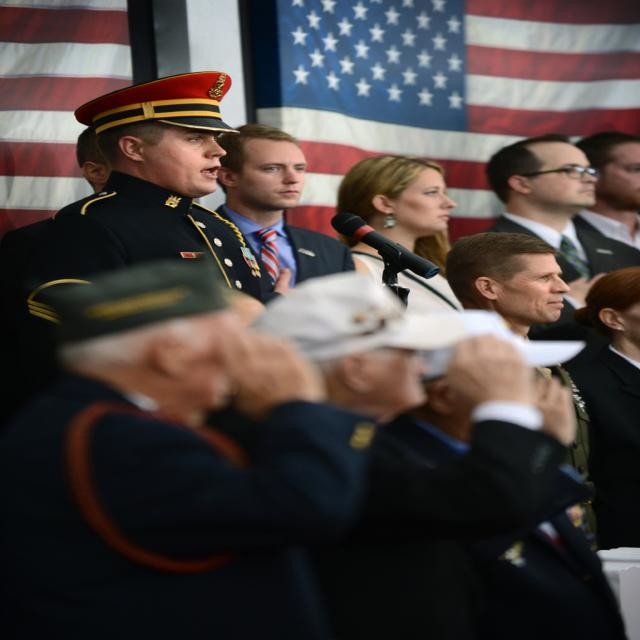Hat: (250, 271, 507, 360), (70, 70, 242, 149), (418, 310, 590, 378)
